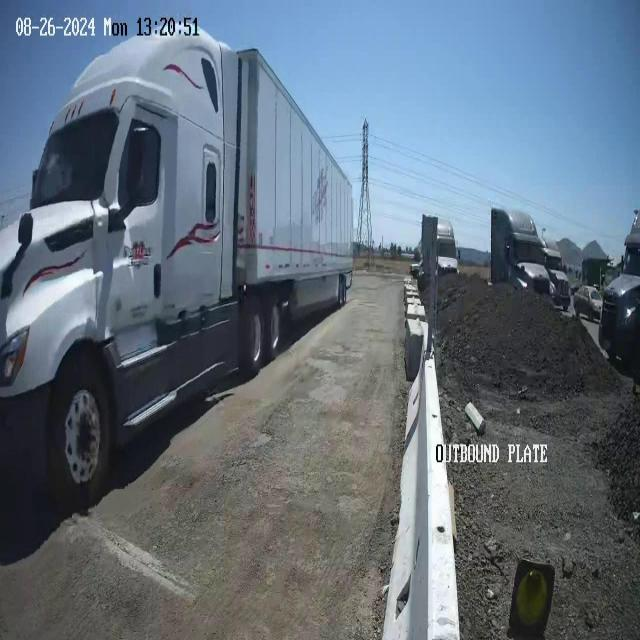TRUCK_OUT: (1, 25, 355, 512)
